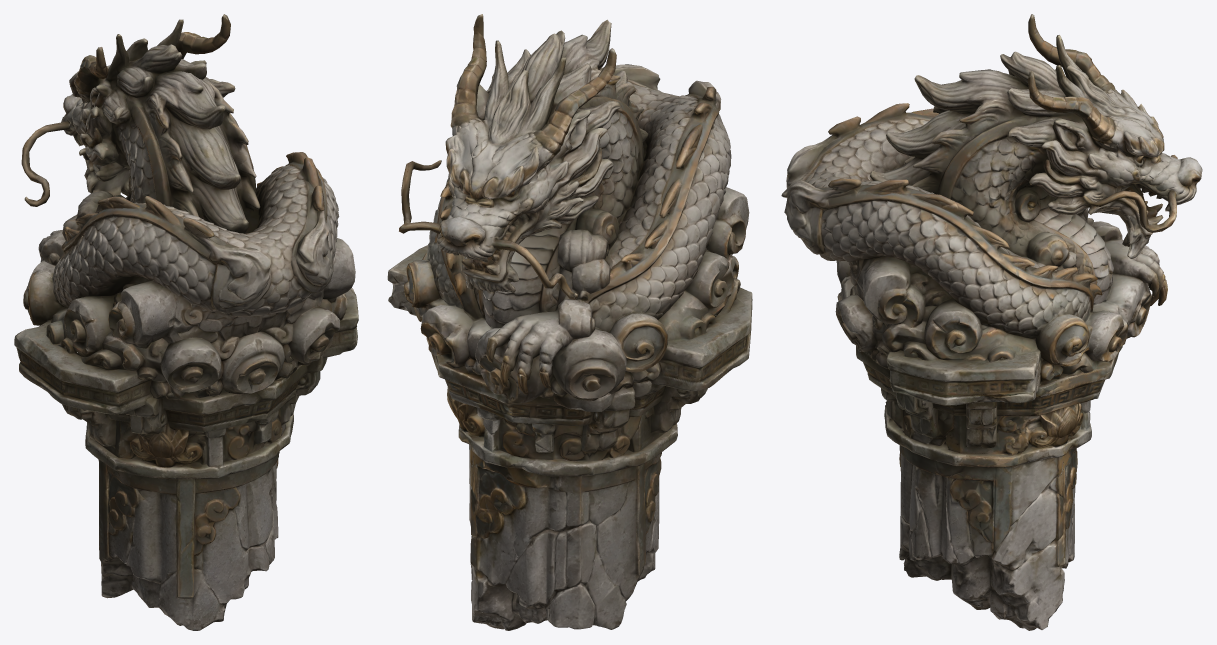
The picture shows the model from 3 angles, left to right: view 1: azimuth 30°, elevation 25°; view 2: azimuth 150°, elevation 25°; view 3: azimuth 270°, elevation 25°; orthographic projection. The views are drawn at different scales.
Parts seen in each view (by area): view 1: tripo_node_07fb1254-7687-4eca-b337-6a559e9419e5; view 2: tripo_node_07fb1254-7687-4eca-b337-6a559e9419e5; view 3: tripo_node_07fb1254-7687-4eca-b337-6a559e9419e5.
Part boxes in pixels (bbox=[...]): tripo_node_07fb1254-7687-4eca-b337-6a559e9419e5: bbox=[14, 14, 358, 630]; tripo_node_07fb1254-7687-4eca-b337-6a559e9419e5: bbox=[387, 14, 752, 630]; tripo_node_07fb1254-7687-4eca-b337-6a559e9419e5: bbox=[781, 14, 1202, 630].
Bounding box in the file's own units: 0.5276 × 0.9777 × 0.6602.
Materials: 1 (1 with a texture image).
